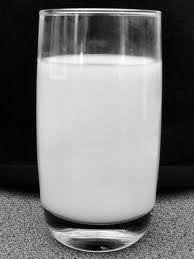glass of milk: (35, 4, 162, 250)
